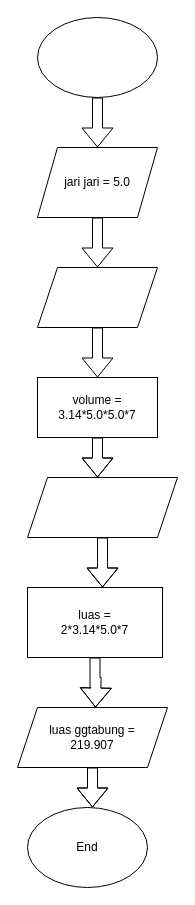
Some shapes in this 195 by 905 pixel diagram are drawn without their labels. The box of each missing label's shape, as (x1, y1, x2, y2) in pixels:
start: (36, 16, 158, 98)
Tinggi = 7: (36, 266, 158, 328)
volume tabung = 549.768: (26, 476, 178, 538)
